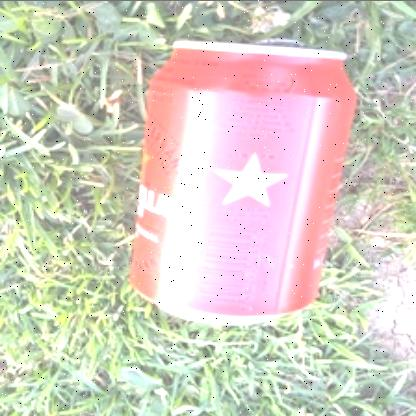Can: (130, 38, 356, 324)
